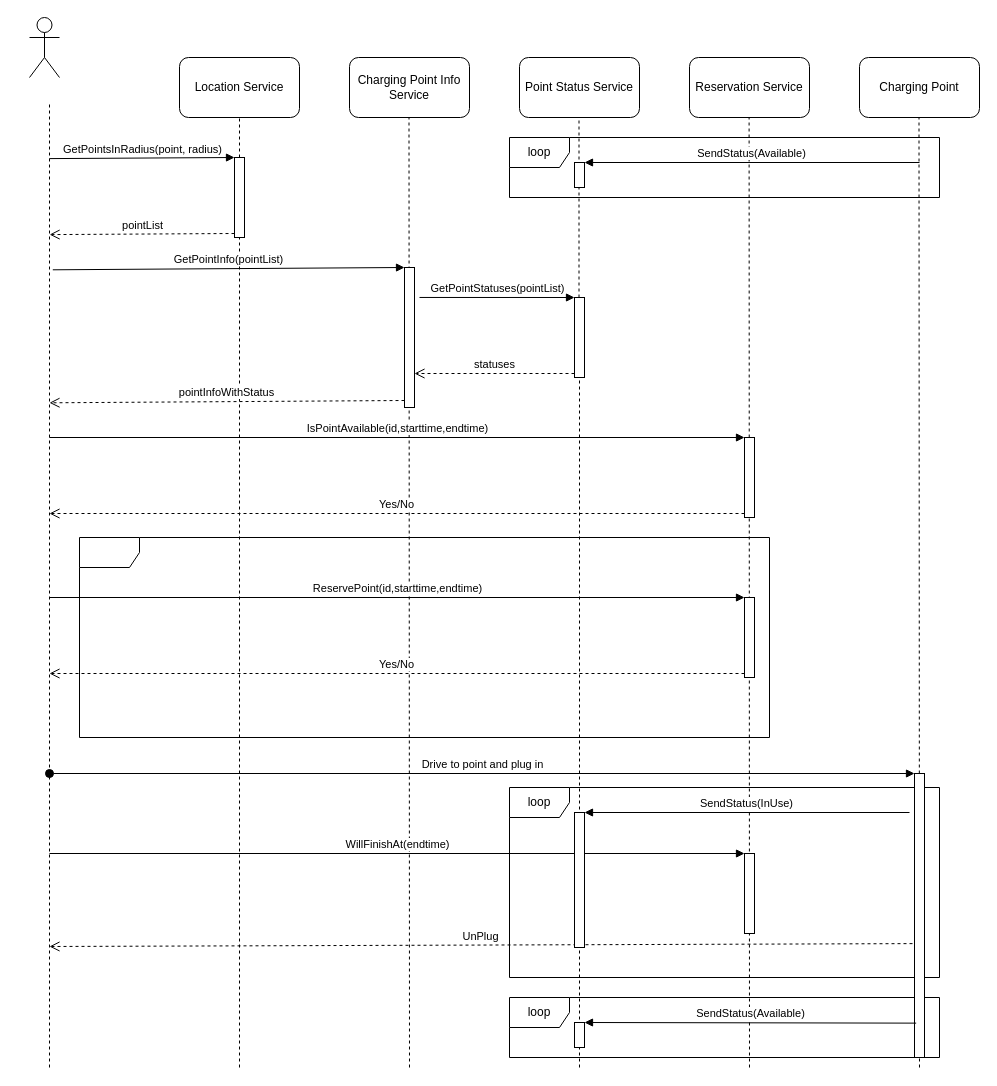
The diagram is 997 pixels wide and 1086 high, and some of its shapes have lost their labels. The shapes that lost their labels are listed below. From the top down, each one's centre as x and y in pixels, then its label:
At (x=44, y=47): "Car/Driver".
At (x=424, y=637): "opt".
